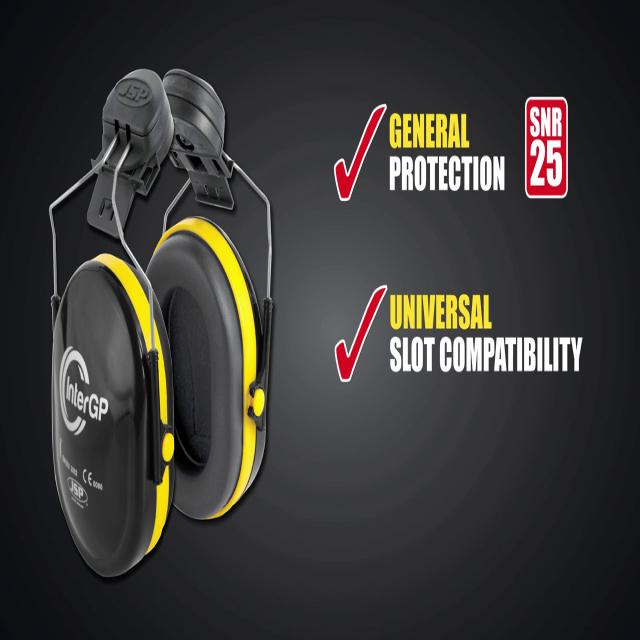earmuff: (45, 247, 179, 588), (141, 208, 271, 532)
